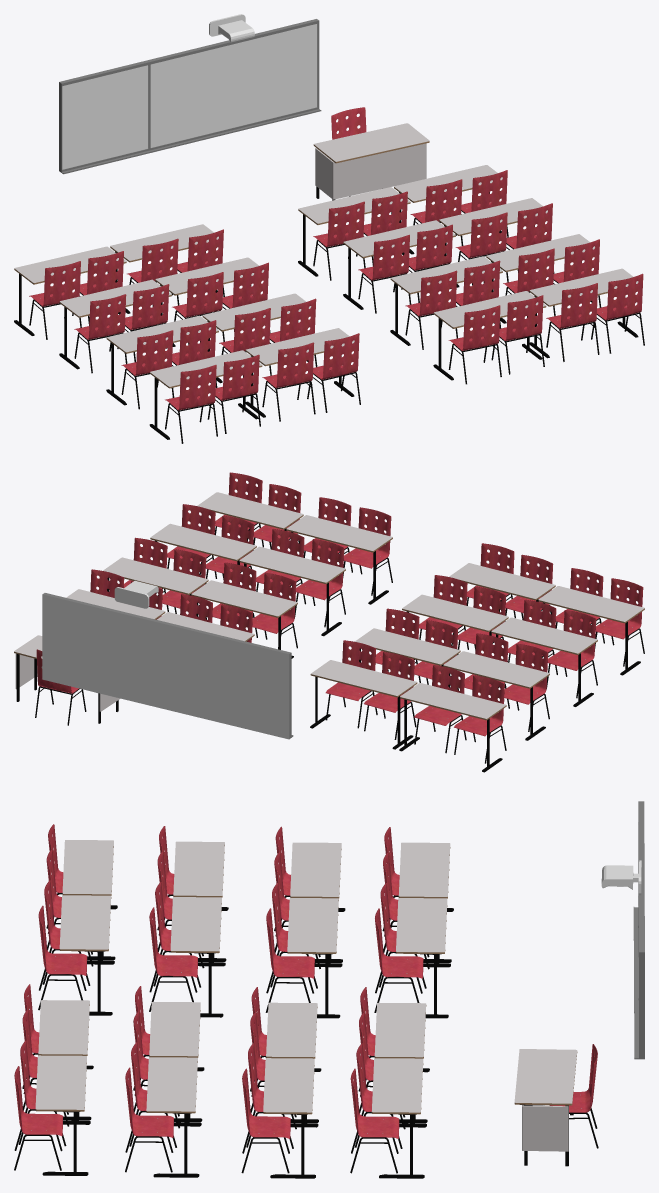
File: fur_bn2_007_sized.glb
3 renders of one model, top to bottom at view 1: azimuth 30°, elevation 25°; view 2: azimuth 150°, elevation 25°; view 3: azimuth 270°, elevation 25°, orthographic. The views are drawn at different scales.
Visible parts, largest first — view 1: Tableau65, Tableau66, Table_prof_Cube_29, Table_prof_Table29, Chaise_Rouge_Pied_843, Chaise_Rouge_Pied_827, Chaise_Rouge_Pied_829, Chaise_Rouge_Pied_845, Chaise_Rouge_Pied_844, Chaise_Rouge_Pied_828, Chaise_Rouge_Pied_830, Chaise_Rouge_Pied_837 (+41 smaller); view 2: Tableau65, Tableau66, Table_Table533, Table_Table540, Table_Table528, Table_Table543, Table_Table529, Table_Table532, Table_Table535, Table_Table541, Table_Table531, Table_Table539 (+42 smaller); view 3: Table_prof_Table29, Table_Table542, Table_Table534, Table_Table540, Table_Table536, Table_Table538, Table_Table539, Table_Table531, Table_Table529, Table_Table533, Table_Table532, Table_Table543 (+38 smaller).
Boxes of the visible parts, x1,y1,x2,y2 form: Tableau65: (147,19,321,152); Tableau66: (59,60,151,174); Table_prof_Cube_29: (315,143,426,199); Table_prof_Table29: (313,123,429,163); Chaise_Rouge_Pied_843: (546,283,599,361); Chaise_Rouge_Pied_827: (262,342,315,421); Chaise_Rouge_Pied_829: (165,365,217,443); Chaise_Rouge_Pied_845: (448,305,501,384); Chaise_Rouge_Pied_844: (591,273,644,353); Chaise_Rouge_Pied_828: (307,333,360,412); Chaise_Rouge_Pied_830: (207,354,260,433); Chaise_Rouge_Pied_837: (358,234,411,313); Tableau65: (42,593,207,718); Tableau66: (205,632,293,739); Table_Table533: (491,617,597,654); Table_Table540: (150,523,256,561); Table_Table528: (310,660,417,697); Table_Table543: (286,515,392,552); Table_Table529: (400,683,506,720); Table_Table532: (402,594,508,631); Table_Table535: (538,586,644,623); Table_Table541: (239,546,345,583); Table_Table531: (443,651,549,688); Table_Table539: (191,580,297,617); Table_prof_Table29: (514,1049,577,1105); Table_Table542: (35,1055,86,1111); Table_Table534: (59,895,111,951); Table_Table540: (146,1057,197,1113); Table_Table536: (371,1058,423,1114); Table_Table538: (263,1058,314,1114); Table_Table539: (266,1002,317,1058); Table_Table531: (290,842,341,898); Table_Table529: (398,842,450,898); Table_Table533: (173,841,224,897); Table_Table532: (170,897,221,953); Table_Table543: (38,1000,89,1055).
Bounding box in the file's own units: 6.56 × 2.38 × 6.42.
Materials: 10 (2 with a texture image).
